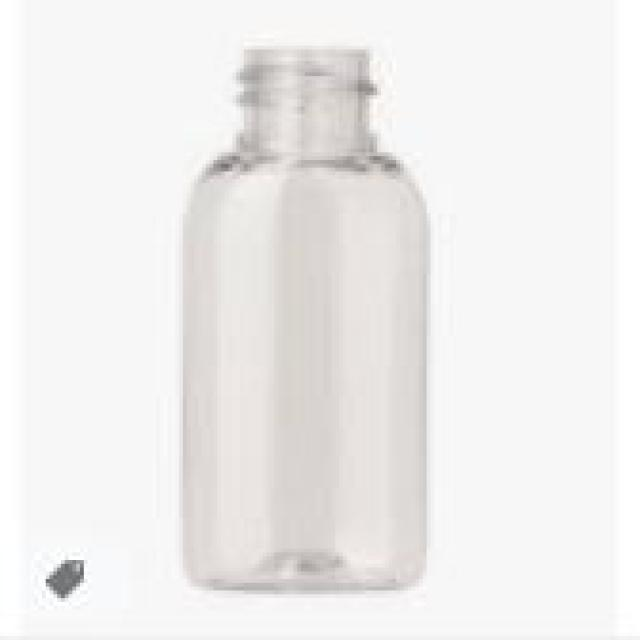bottle: (160, 29, 453, 600)
